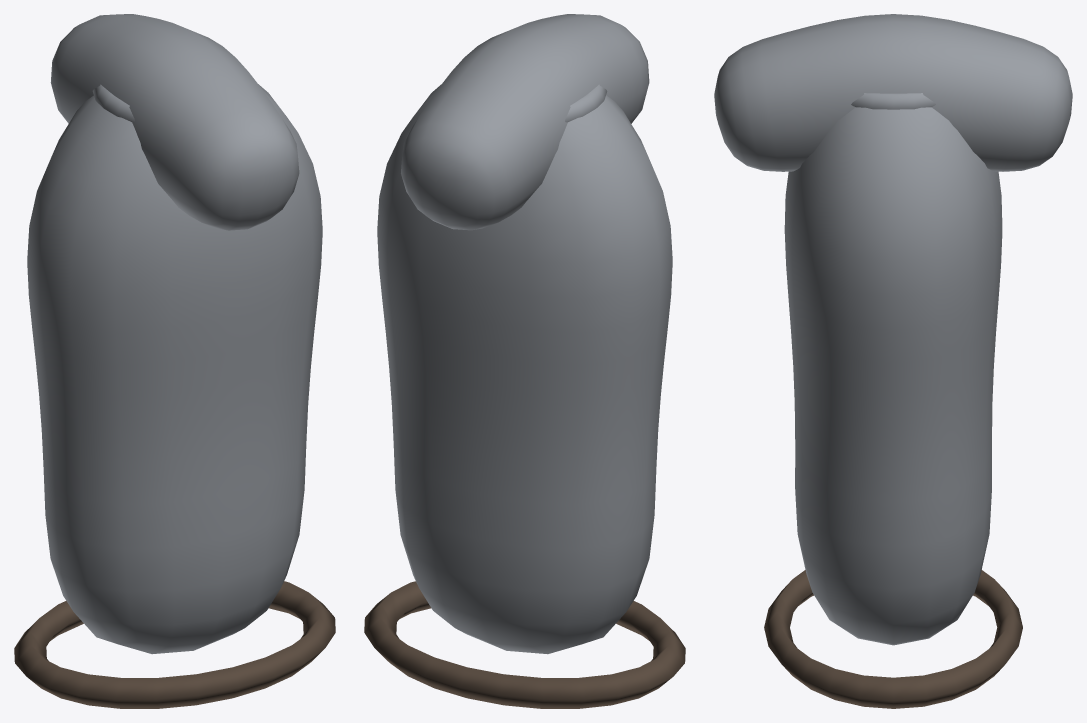
The model's file is SM_Faceling_Torso.fbx.
The picture shows the model from 3 angles, left to right: view 1: azimuth 30°, elevation 25°; view 2: azimuth 150°, elevation 25°; view 3: azimuth 270°, elevation 25°; orthographic projection.
Visible parts, largest first — view 1: SM_Faceling_Torso; view 2: SM_Faceling_Torso; view 3: SM_Faceling_Torso.
Part boxes in pixels (<box>): SM_Faceling_Torso: <box>14,14,335,708</box>; SM_Faceling_Torso: <box>364,14,685,708</box>; SM_Faceling_Torso: <box>714,14,1072,708</box>.
Size of the model in its own units: 30 by 59.53 by 31.15.
